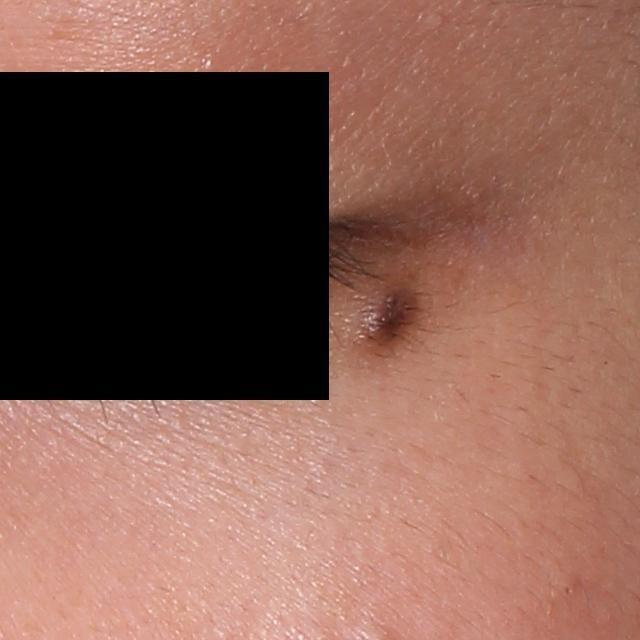comedo: (561, 580, 574, 601)
nevus: (352, 283, 427, 348)
